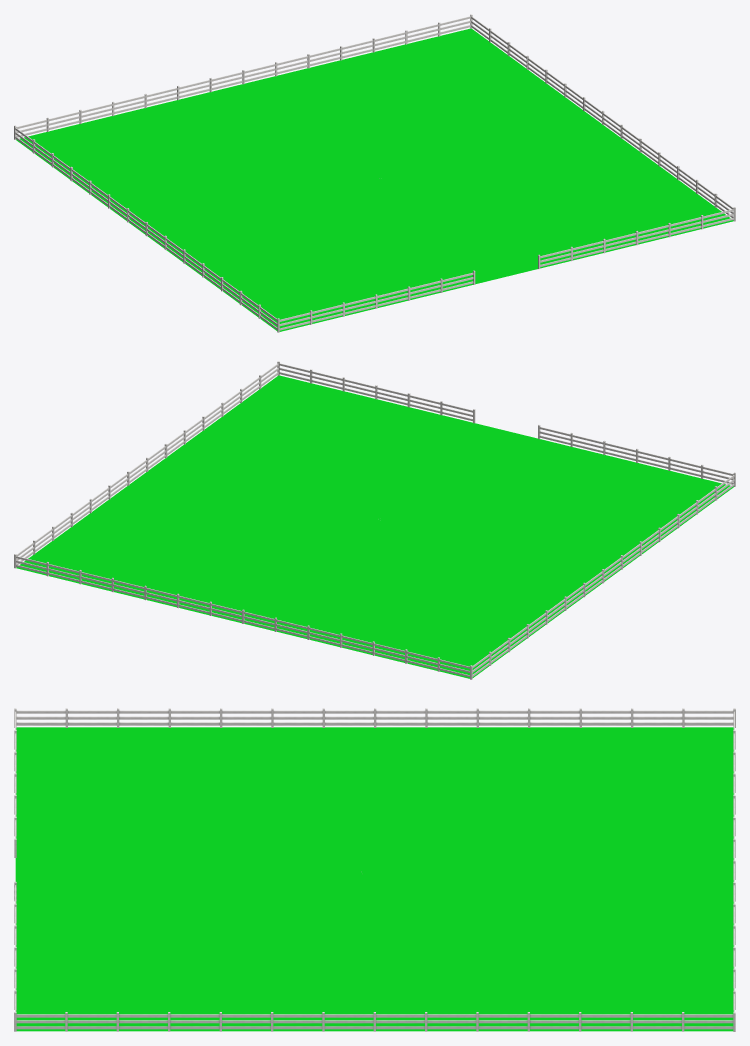
File: Floor.glb
3 renders of one model, top to bottom at view 1: azimuth 30°, elevation 25°; view 2: azimuth 150°, elevation 25°; view 3: azimuth 270°, elevation 25°, orthographic. The views are drawn at different scales.
Visible parts, largest first — view 1: Floor, Fence01.001, Fence04.001, Fence03.001, Fence02.001, Fence05.001; view 2: Floor, Fence01.001, Fence04.001, Fence03.001, Fence05.001, Fence02.001; view 3: Floor, Fence04.001, Fence03.001, Fence01.001.
Boxes of the visible parts, x1,y1,x2,y2 form: Floor: (16,28,733,331); Fence01.001: (14,14,472,139); Fence04.001: (14,125,279,332); Fence03.001: (470,14,735,221); Fence02.001: (277,270,475,332); Fence05.001: (538,207,735,268); Floor: (16,375,733,678); Fence01.001: (14,554,472,678); Fence04.001: (470,472,735,679); Fence03.001: (14,361,279,568); Fence05.001: (277,361,475,423); Fence02.001: (538,425,735,486); Floor: (15,727,733,1031); Fence04.001: (14,708,735,727); Fence03.001: (14,1012,735,1031); Fence01.001: (733,708,735,1031).
Bounding box in the file's own units: 141 × 4.13 × 141.
Materials: 12 (10 with a texture image).
